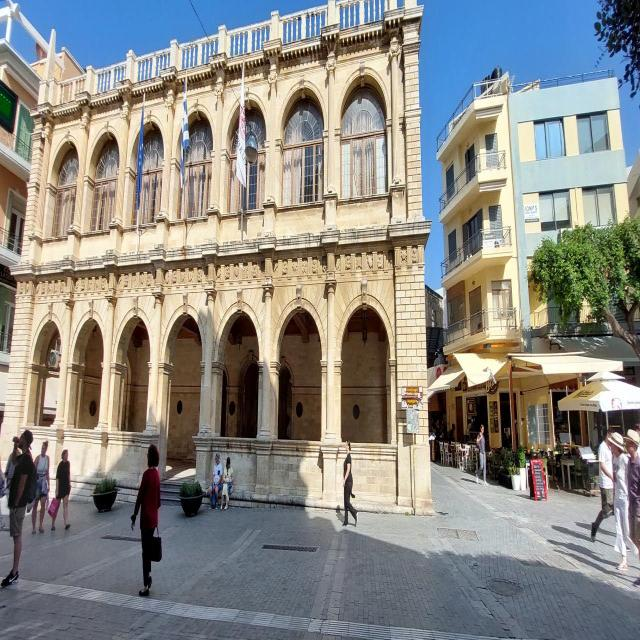Loggia: (1, 1, 438, 525)
